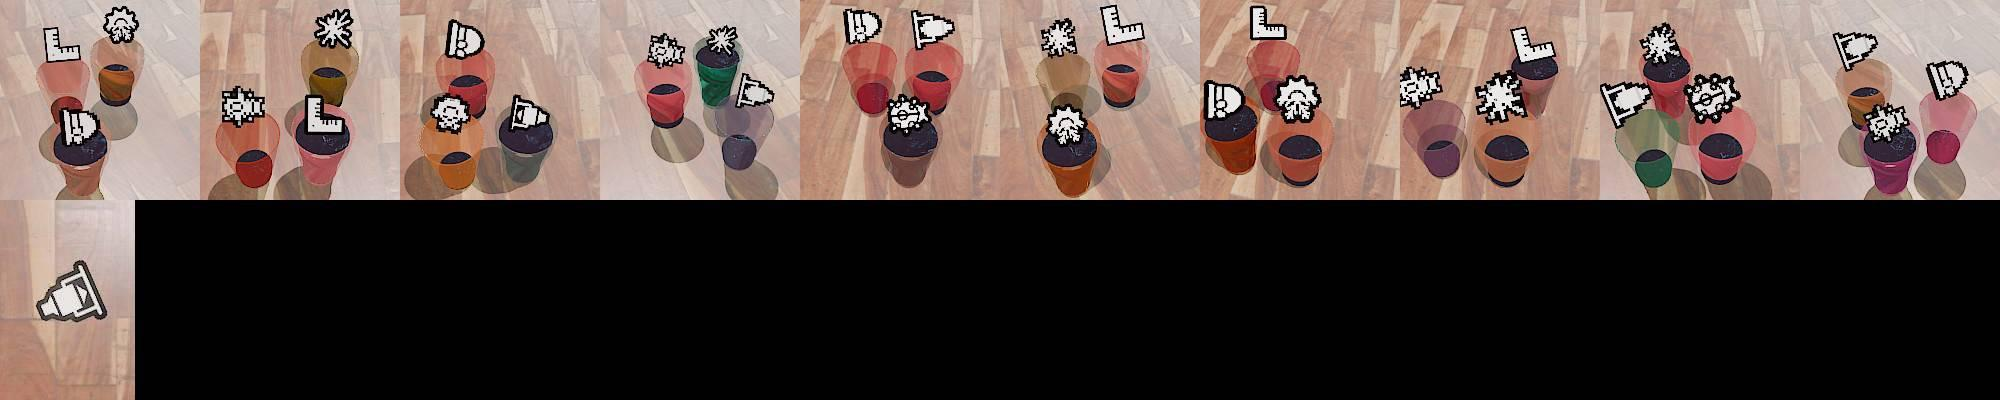icon: (34, 260, 110, 321), (1685, 73, 1742, 126), (1599, 80, 1653, 131), (1272, 74, 1323, 122), (1098, 4, 1147, 48), (1638, 22, 1682, 69), (1043, 103, 1089, 148), (1864, 101, 1912, 143), (218, 84, 268, 125), (1508, 25, 1557, 66), (1398, 65, 1443, 110), (1478, 76, 1523, 121), (1925, 59, 1969, 103), (909, 8, 955, 50), (1833, 31, 1879, 71), (302, 93, 346, 135), (444, 17, 485, 61), (886, 93, 932, 132), (1040, 15, 1079, 59), (430, 93, 471, 132), (60, 106, 98, 148), (508, 93, 550, 131), (41, 25, 83, 64), (102, 5, 140, 45), (1250, 4, 1288, 42), (647, 32, 686, 69), (844, 9, 881, 46), (736, 73, 774, 108), (316, 9, 352, 46), (702, 23, 739, 59), (1210, 83, 1241, 117)
